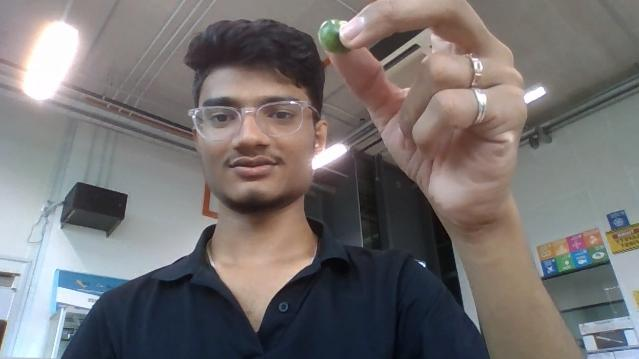Fruit Maturation: (319, 20, 349, 51)
